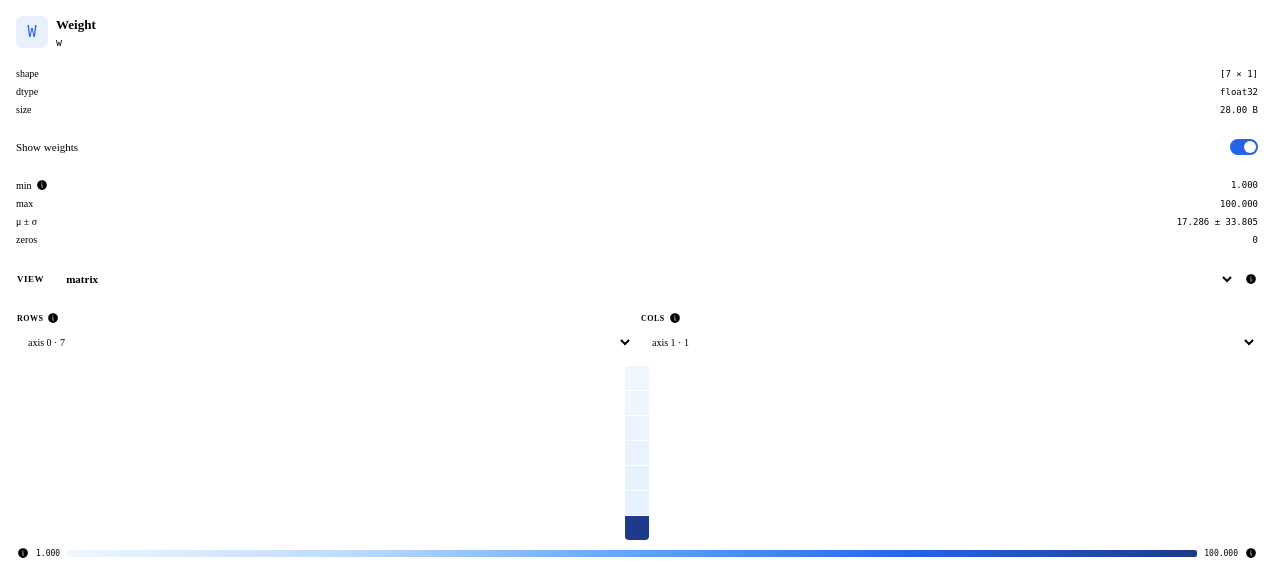
Test: diagnostics groups repeated findings
Select "diagnostics" in the dropdown named "Weight inspector" at (645,279), box 54,264 -> 1235,294
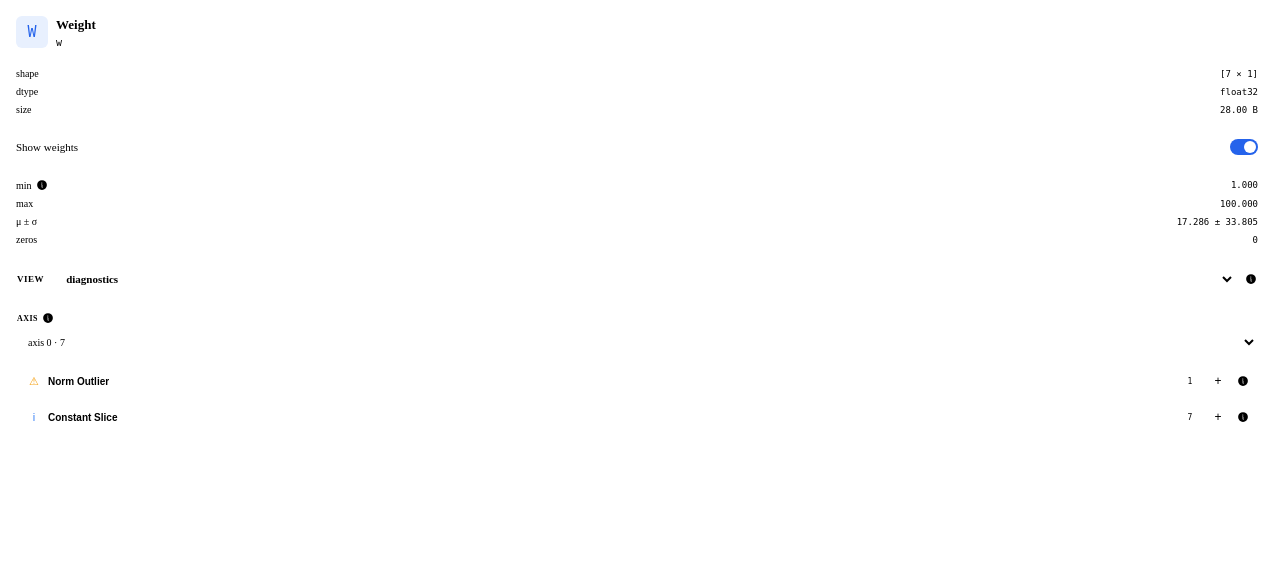
Expected: the number of buttons "i constant slice 7 +" is 1
Expected: the button "i constant slice 7 +" is shown
Click the button "i constant slice 7 +" at (83,417), box 17,402 -> 1233,432
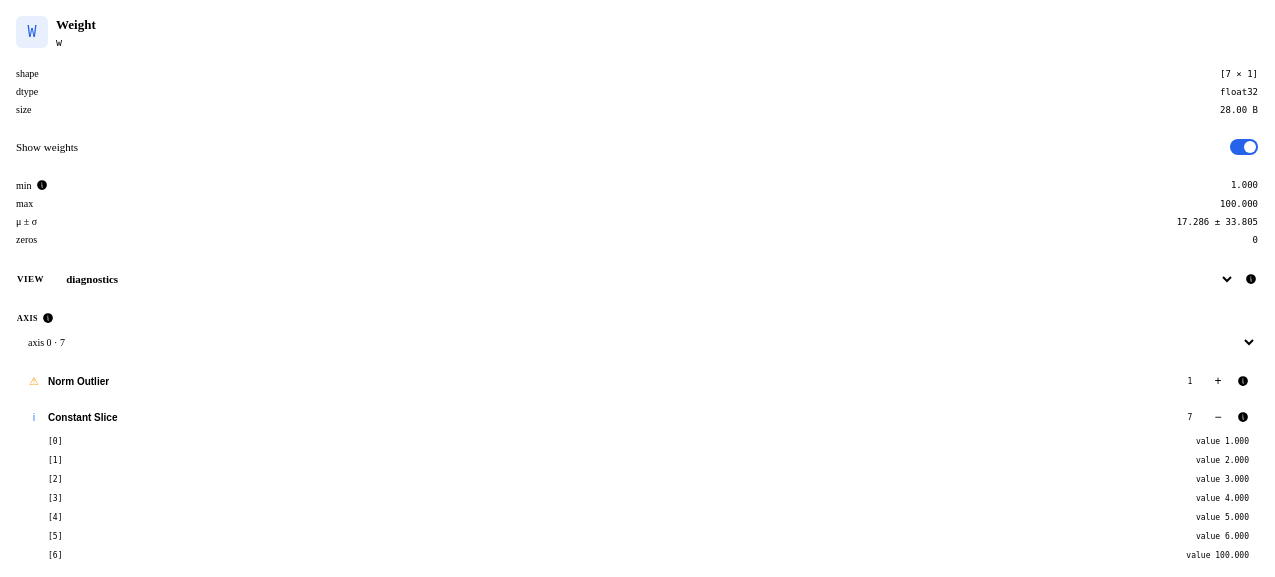
Expected: the text "value 1.000" is shown 7 times
